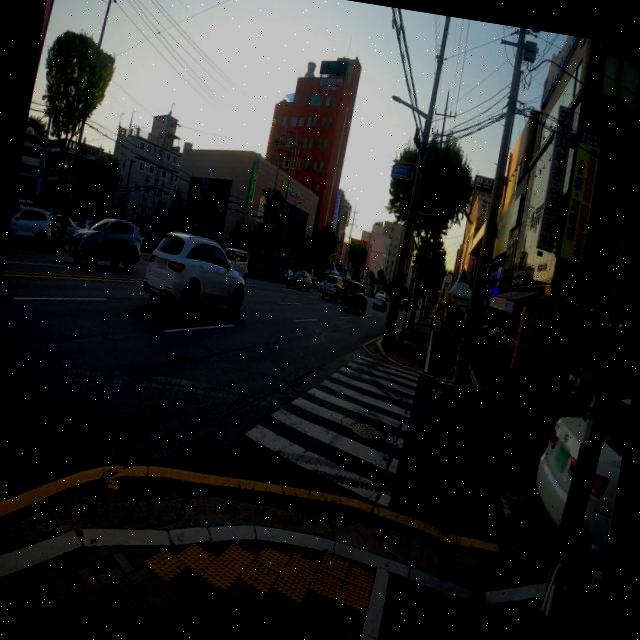crosswalk: (244, 355, 420, 509)
